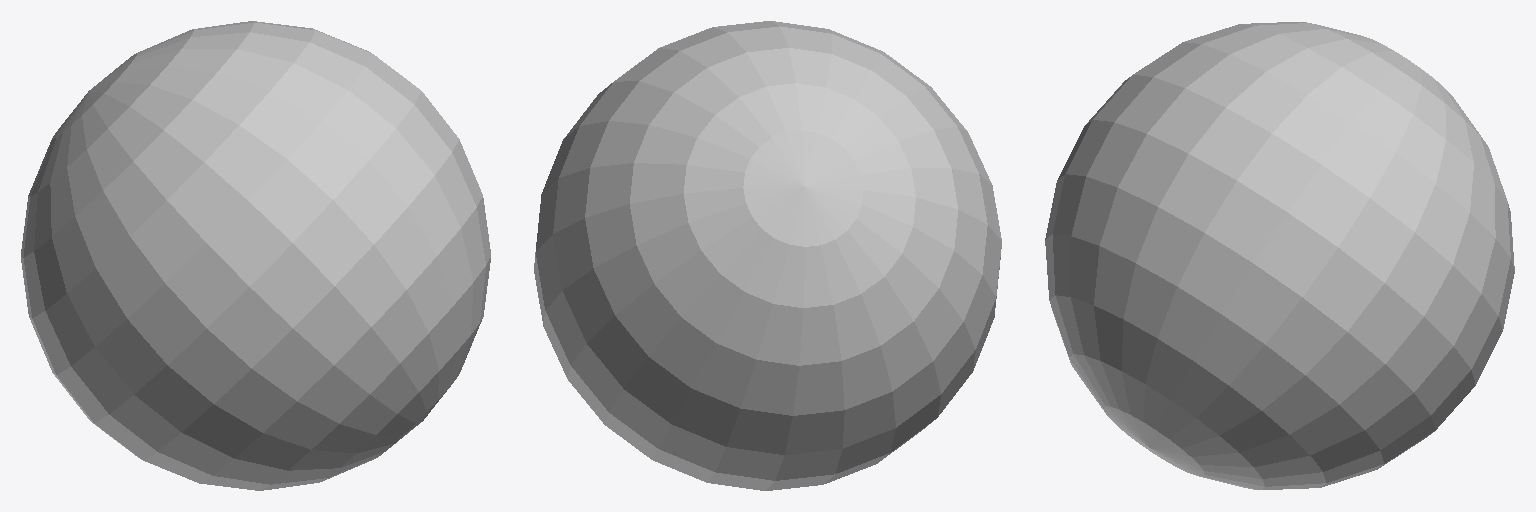
Rendered from ball.obj.
3 views of the same model, side by side, from view 1: azimuth 30°, elevation 25°; view 2: azimuth 150°, elevation 25°; view 3: azimuth 270°, elevation 25° (orthographic).
Parts seen in each view (by area): view 1: group1.001; view 2: group1.001; view 3: group1.001.
Part boxes in pixels (x1,y1,x2,y2): group1.001: (21,21,490,490); group1.001: (534,21,1001,490); group1.001: (1045,22,1514,489).
Bounding box in the file's own units: 38.94 × 38.88 × 38.96.